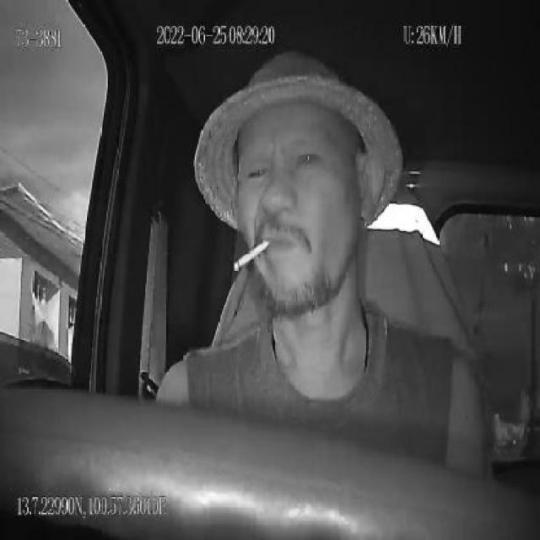smoking: (232, 235, 270, 274)
